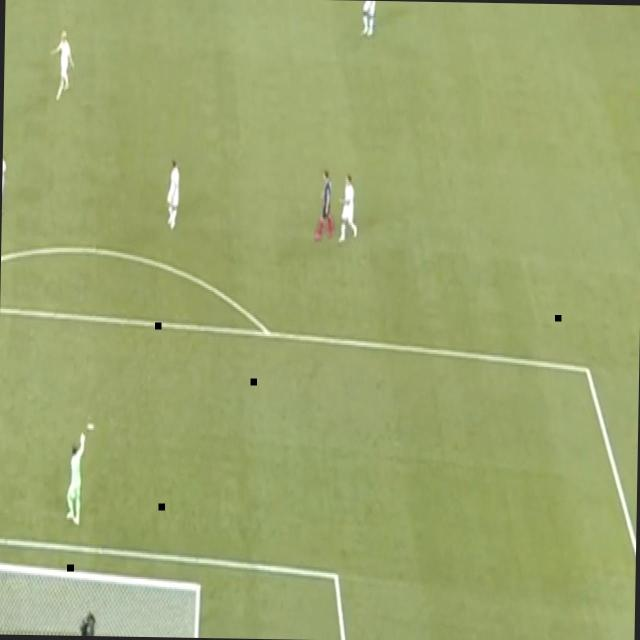player-white: (49, 27, 78, 105), (66, 429, 88, 526), (165, 155, 183, 239), (318, 168, 338, 240), (337, 178, 358, 245), (361, 1, 377, 40), (2, 144, 9, 223)
